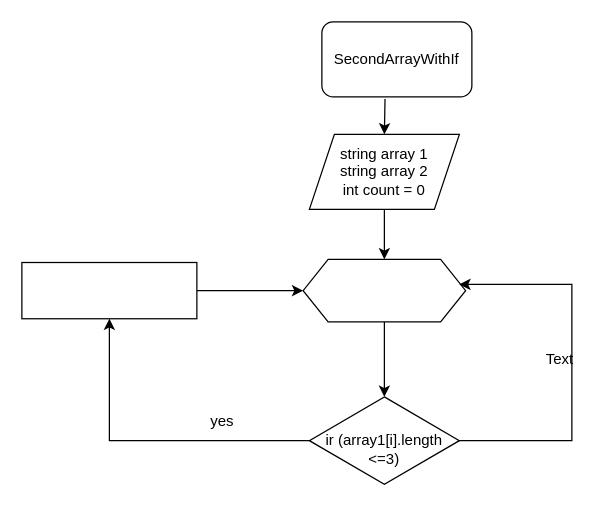
This 606x506 diagram has some shape labels left out. Each missing label, with the centre of its shape:
"array2[count] = array1[i] count++;" goes at [109,290].
"for (int i = 0; i < array 1.length; i++)" goes at [384,290].
